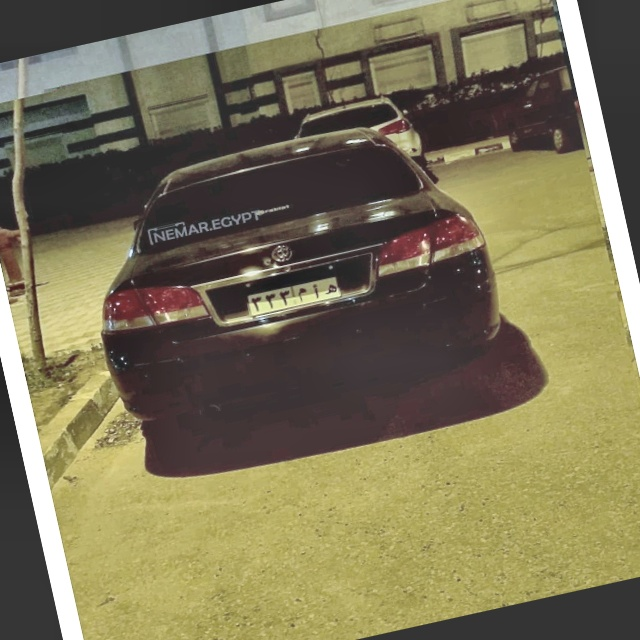License Plate: (240, 260, 344, 319)
